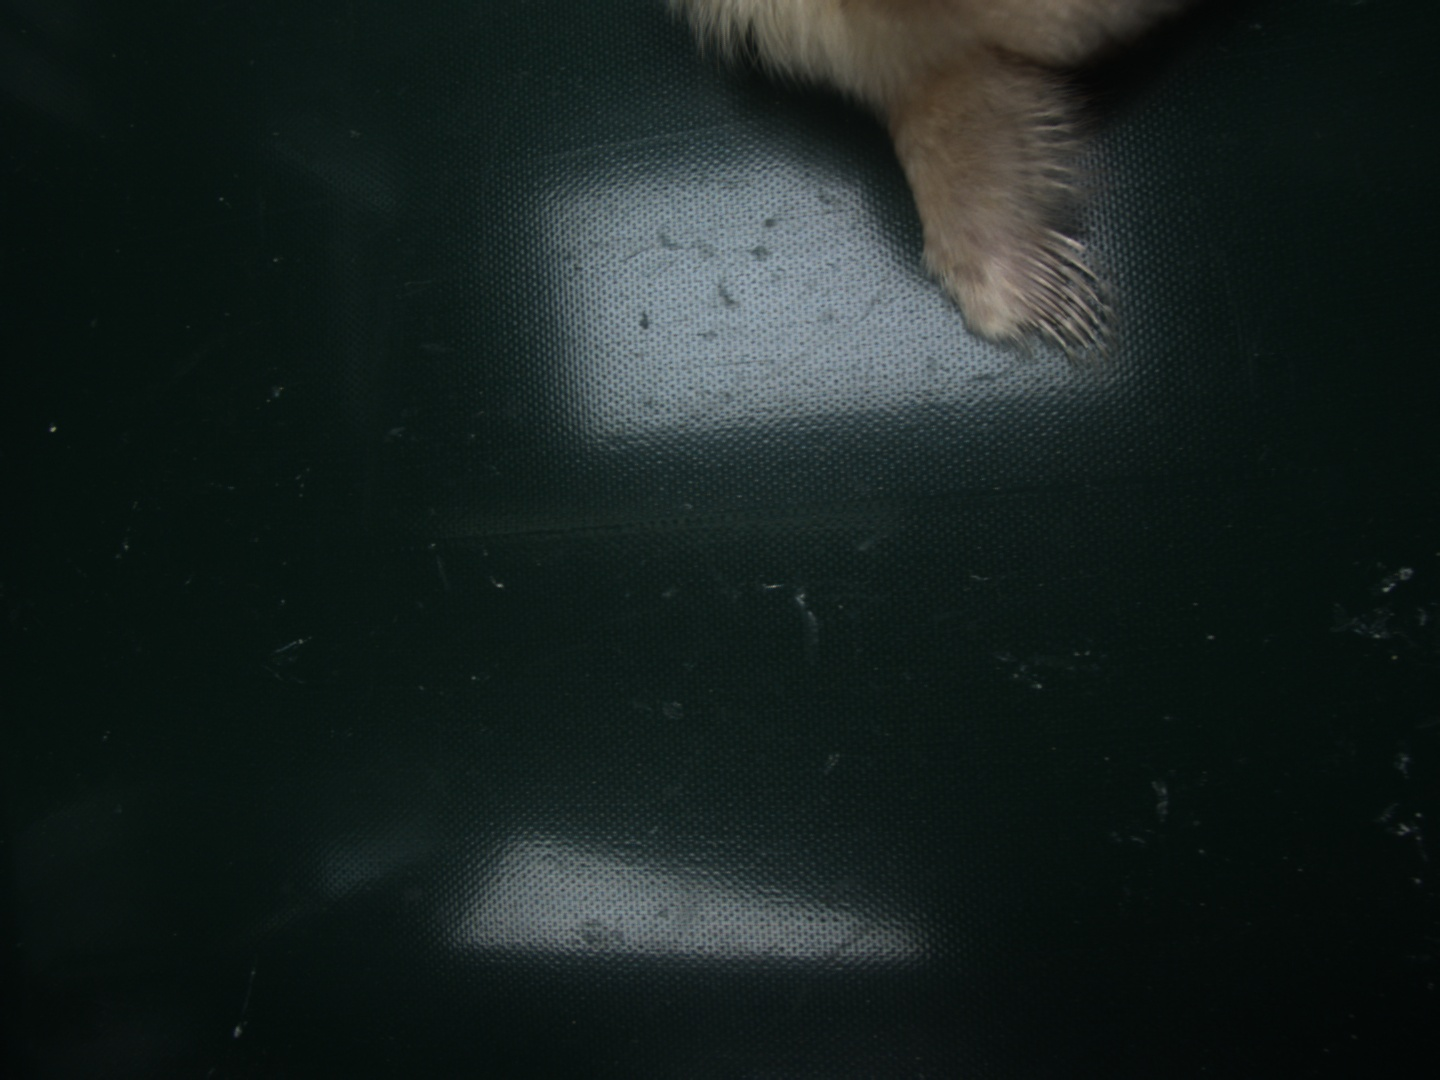female: (1015, 225, 1106, 349)
